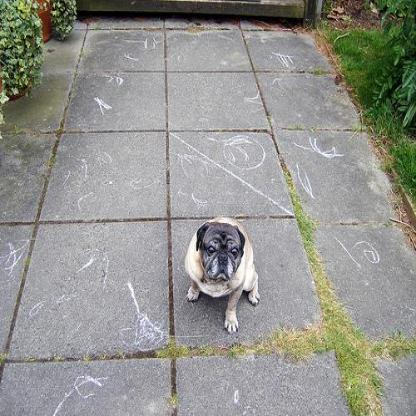pug: (183, 216, 258, 330)
